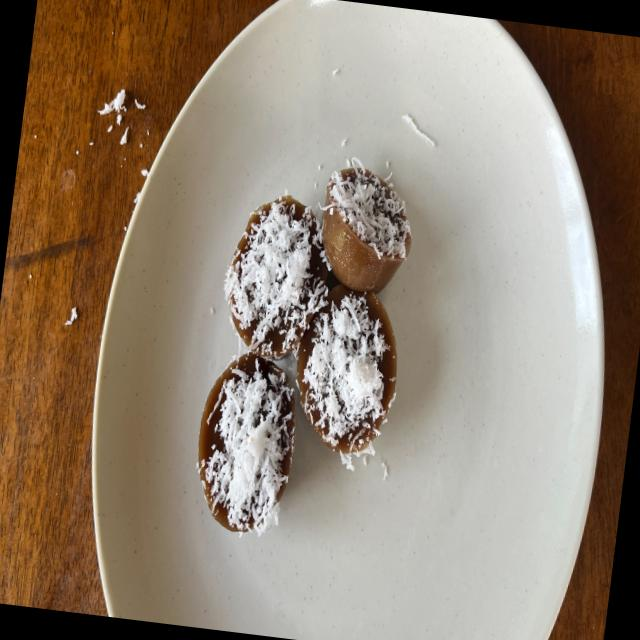Kuih lompang: (296, 284, 397, 467), (198, 352, 295, 534), (224, 195, 328, 359), (321, 156, 411, 293)
